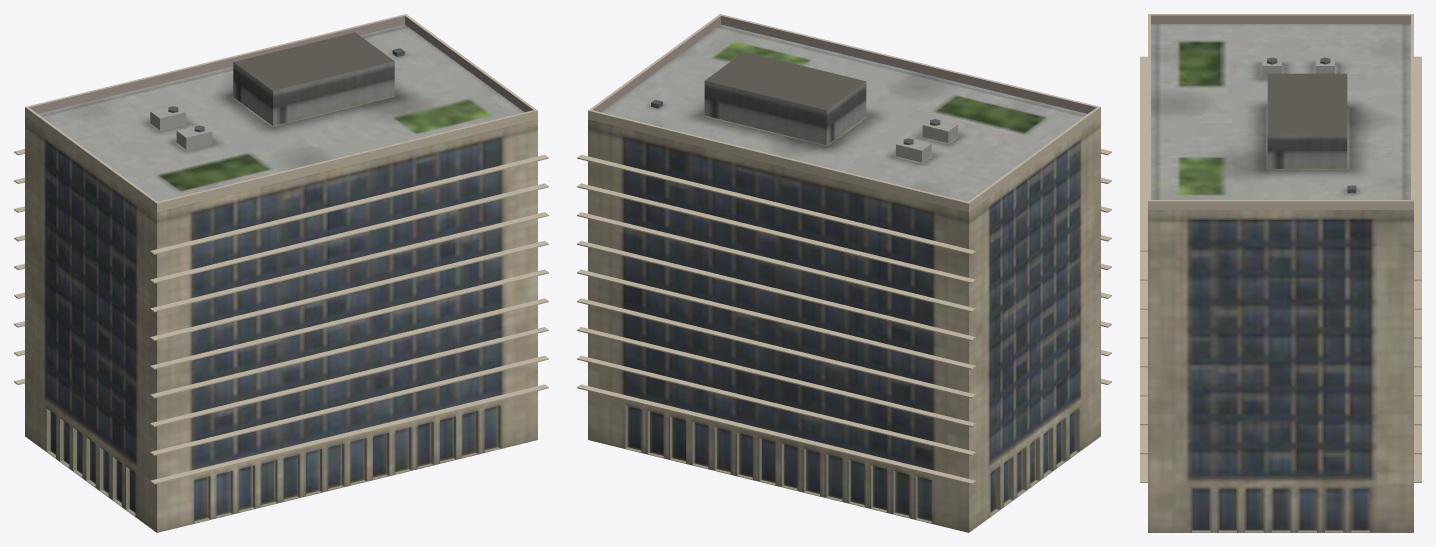
The model's file is dc_office_glass_b.glb.
The picture shows the model from 3 angles, left to right: view 1: azimuth 30°, elevation 25°; view 2: azimuth 150°, elevation 25°; view 3: azimuth 270°, elevation 25°; orthographic projection.
Parts seen in each view (by area): view 1: dc_office_glass_b; view 2: dc_office_glass_b; view 3: dc_office_glass_b.
Boxes of the visible parts, x1=… form: dc_office_glass_b: x1=14, y1=14, x2=548, y2=532; dc_office_glass_b: x1=577, y1=14, x2=1111, y2=532; dc_office_glass_b: x1=1140, y1=14, x2=1421, y2=532.
Bounding box in the file's own units: 51.8 × 44.6 × 31.8.
1 material, 1 textured.
